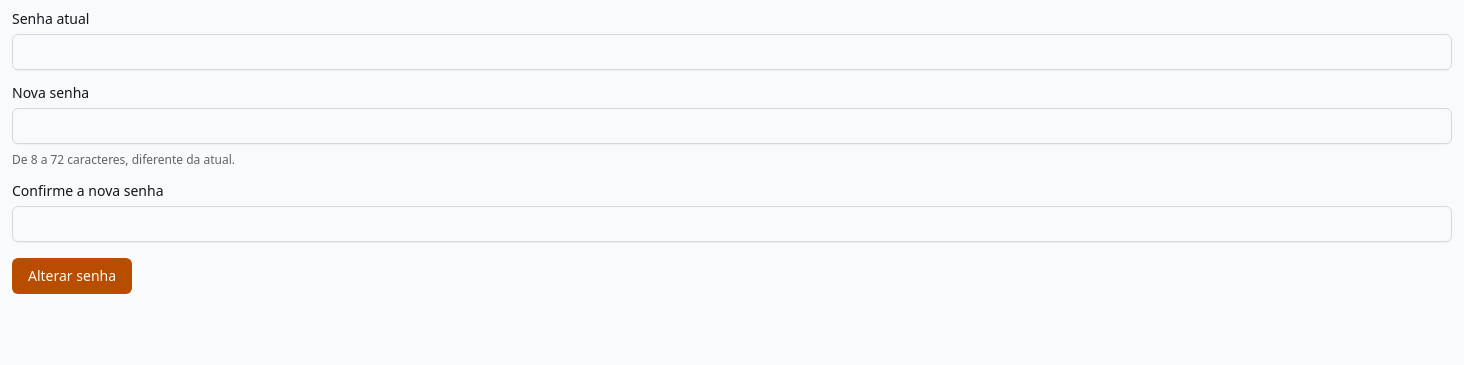
PasswordChangeForm › explains the rate limit
Type "old-password-1" into the password field labelled "Senha atual". click: (732, 52)
box: [12,34,1452,70]
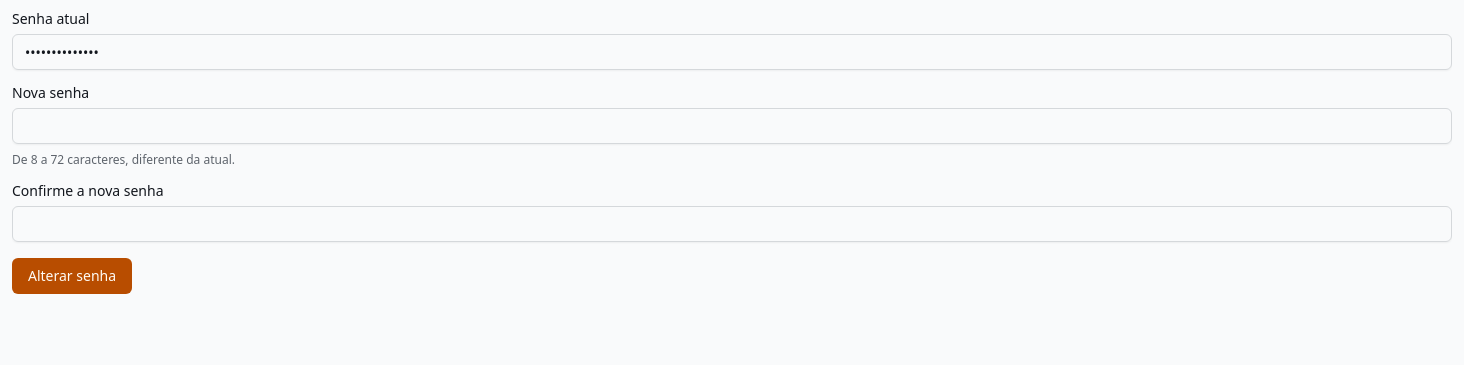
Type "new-password-9" into the password field labelled "Nova senha". click: (732, 126)
box: [12,108,1452,144]
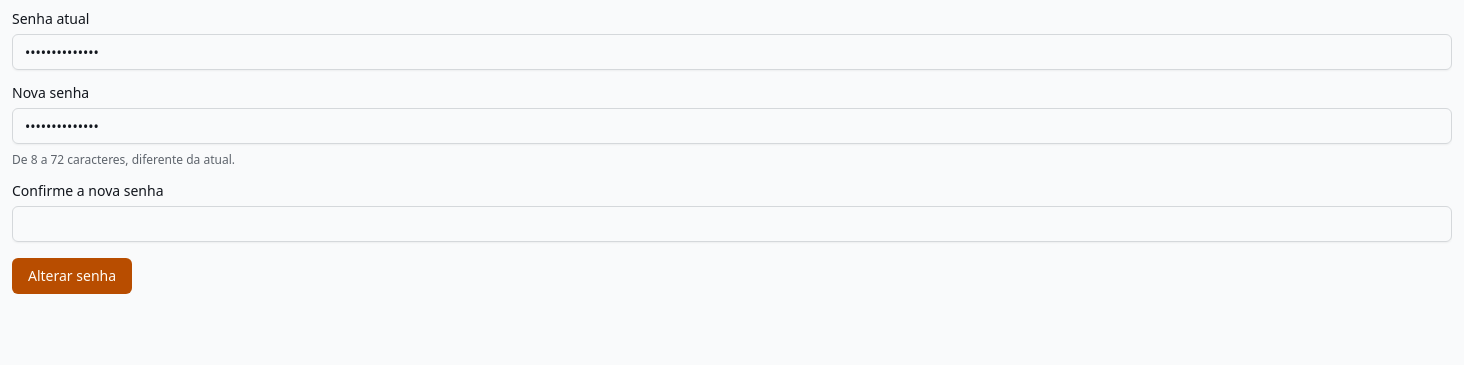
Type "new-password-9" into the password field labelled "Confirme a nova senha". click: (732, 224)
box: [12,206,1452,242]
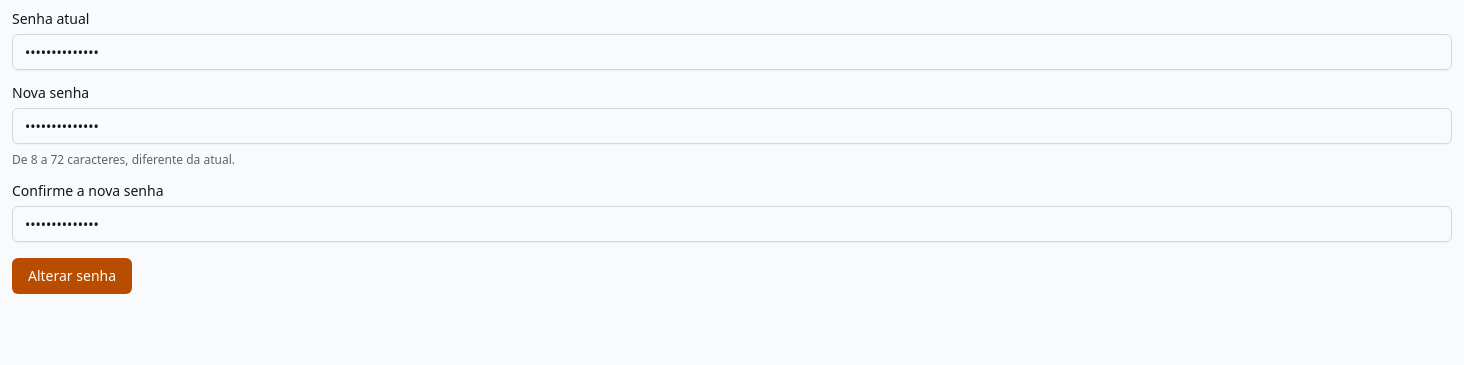
Click the button "Alterar senha". click: (72, 276)
box: [12,258,132,294]
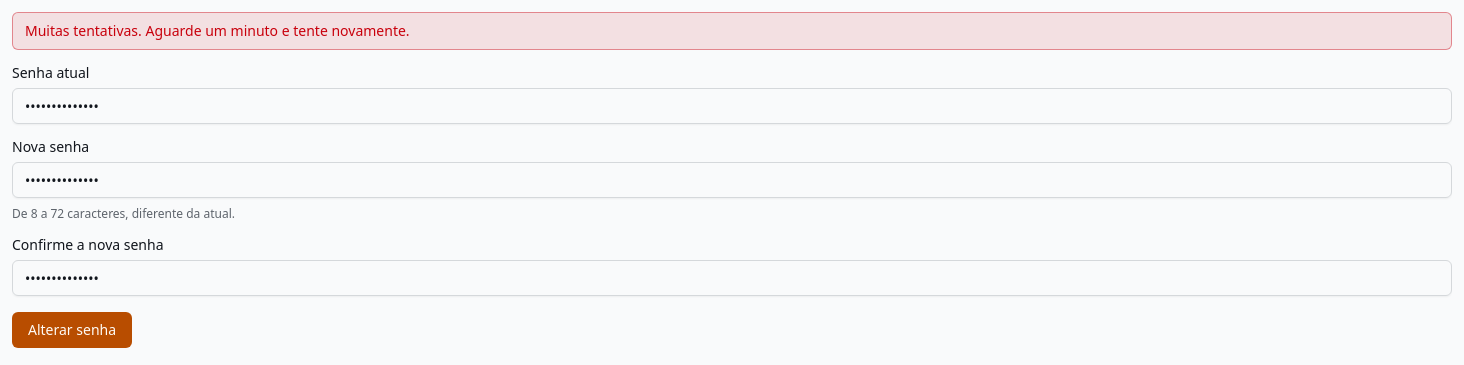
Now the message shows "Muitas tentativas", box [25,21,410,40]
